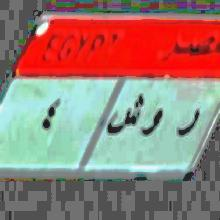4: (41, 92, 61, 144)
raa: (176, 106, 200, 147)
sheen: (108, 93, 143, 137)
waw: (141, 105, 166, 142)
